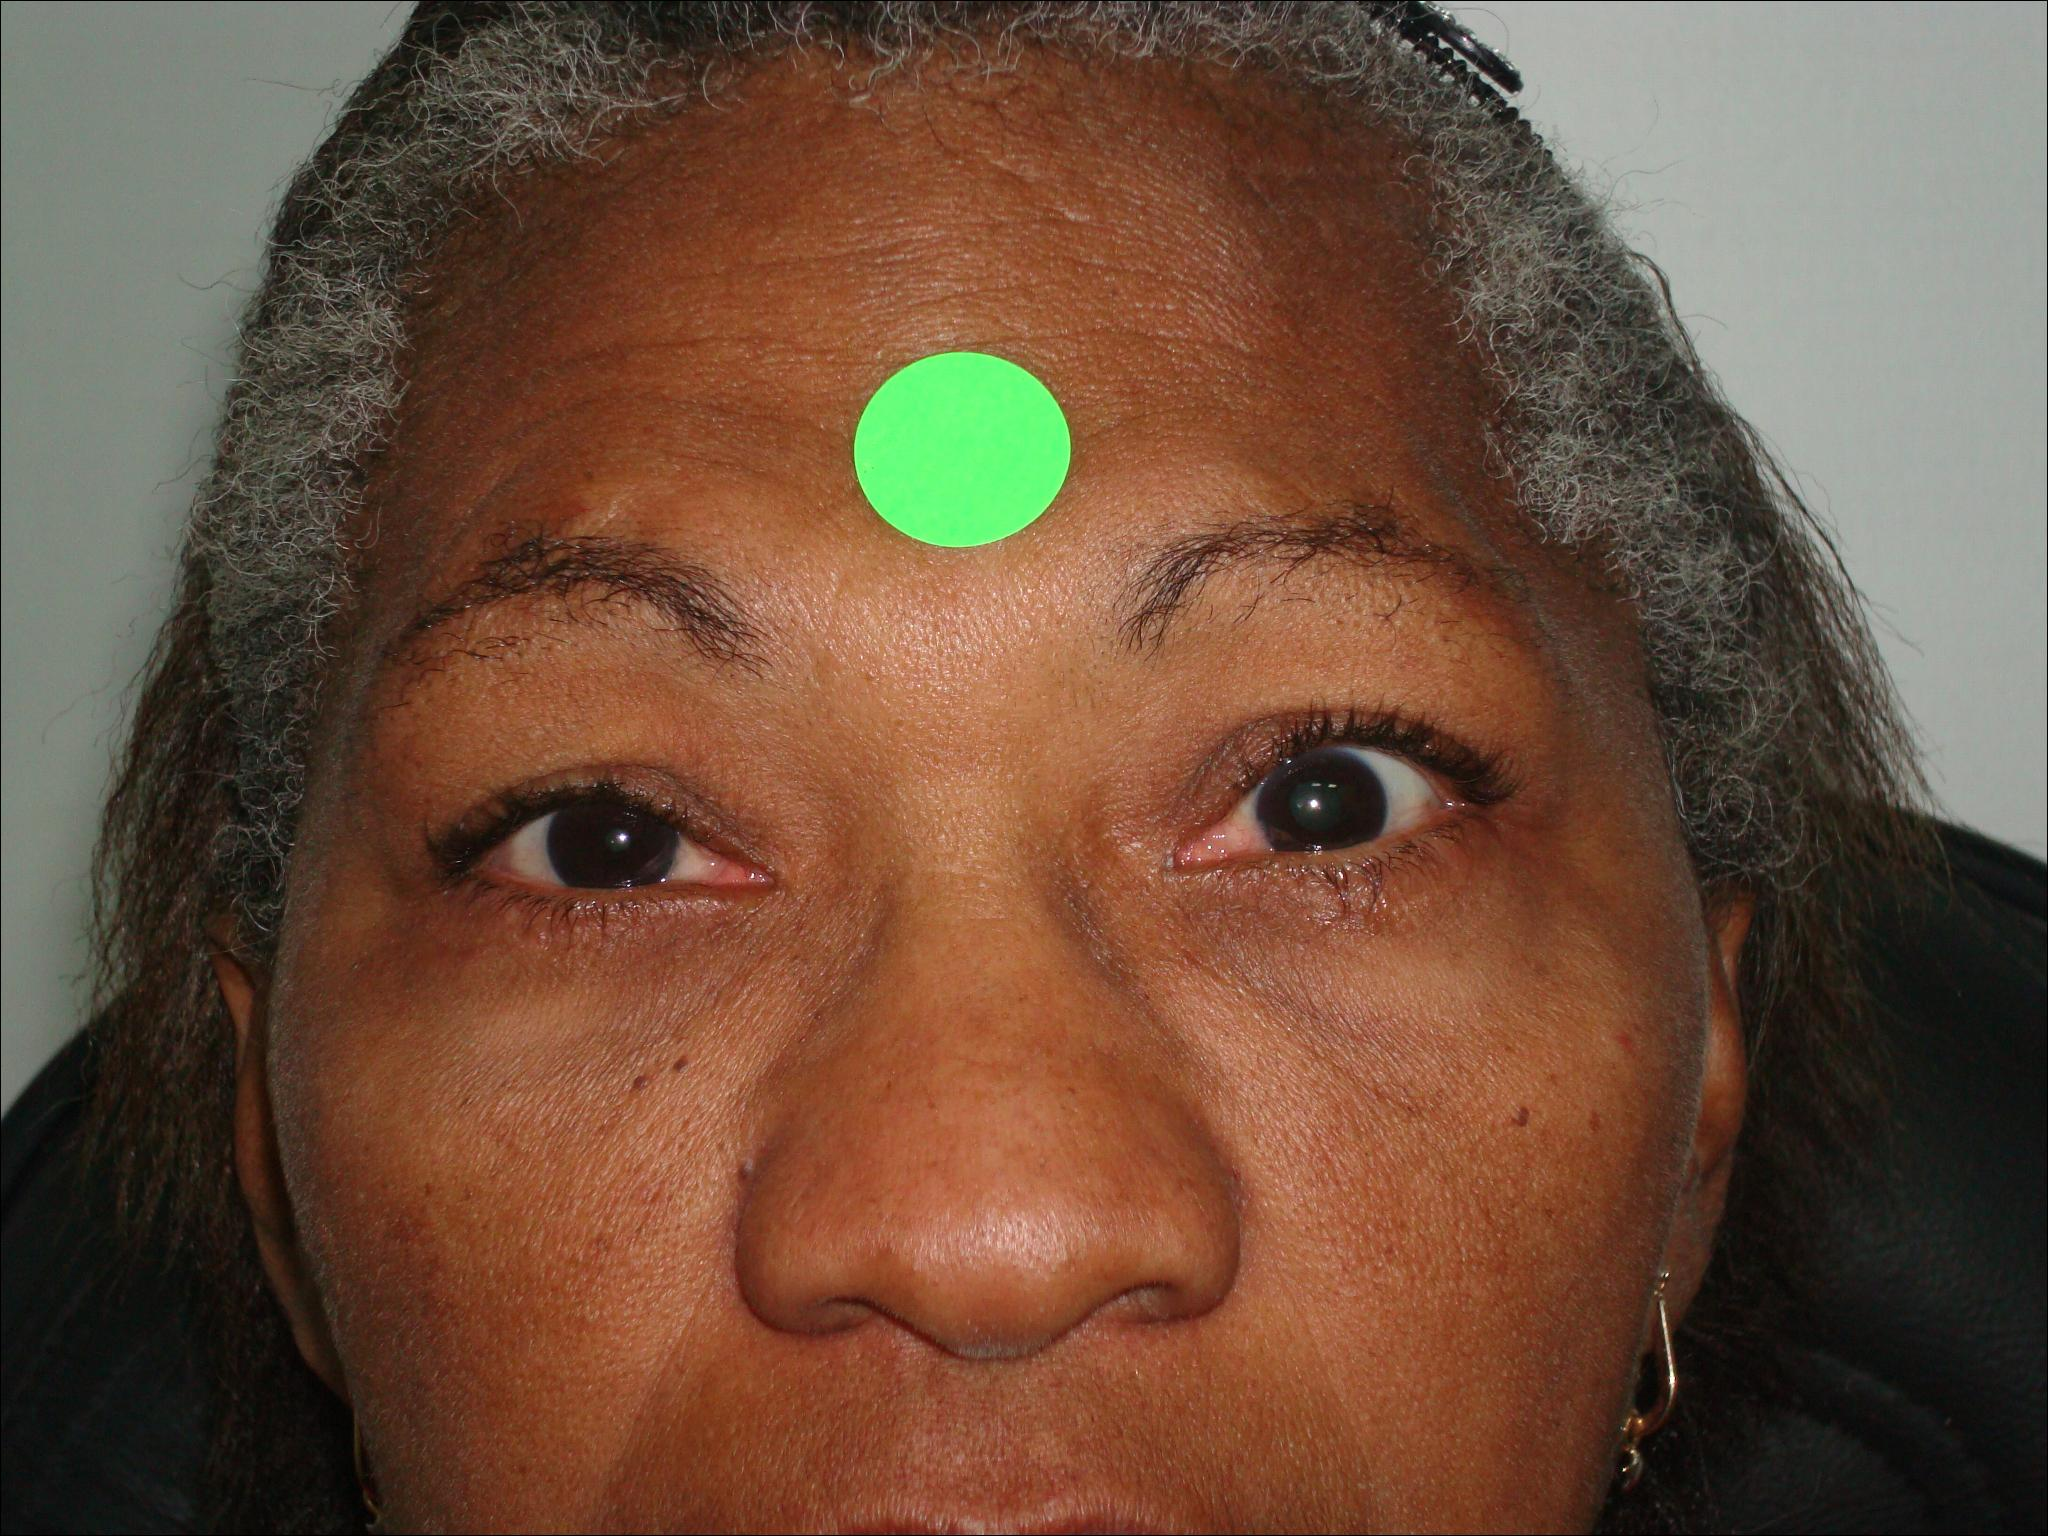flash: (1305, 794, 1324, 813), (613, 828, 632, 845)
limbo: (1247, 750, 1384, 858), (550, 787, 676, 892)
